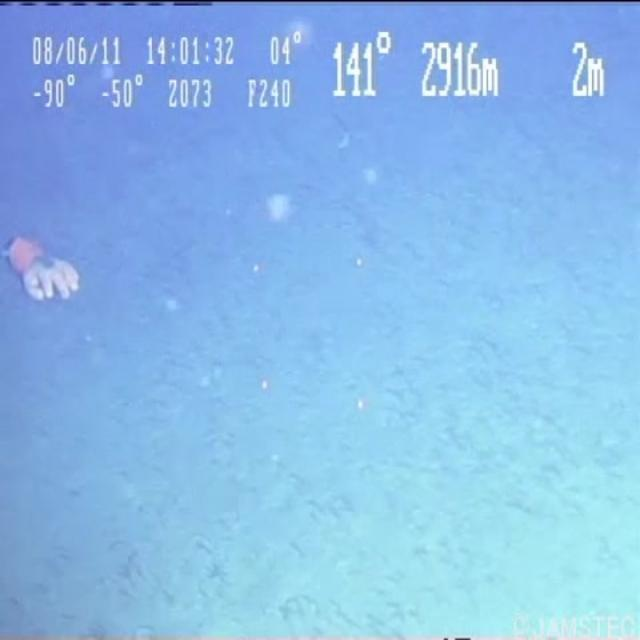Accessories: (4, 214, 86, 318)
